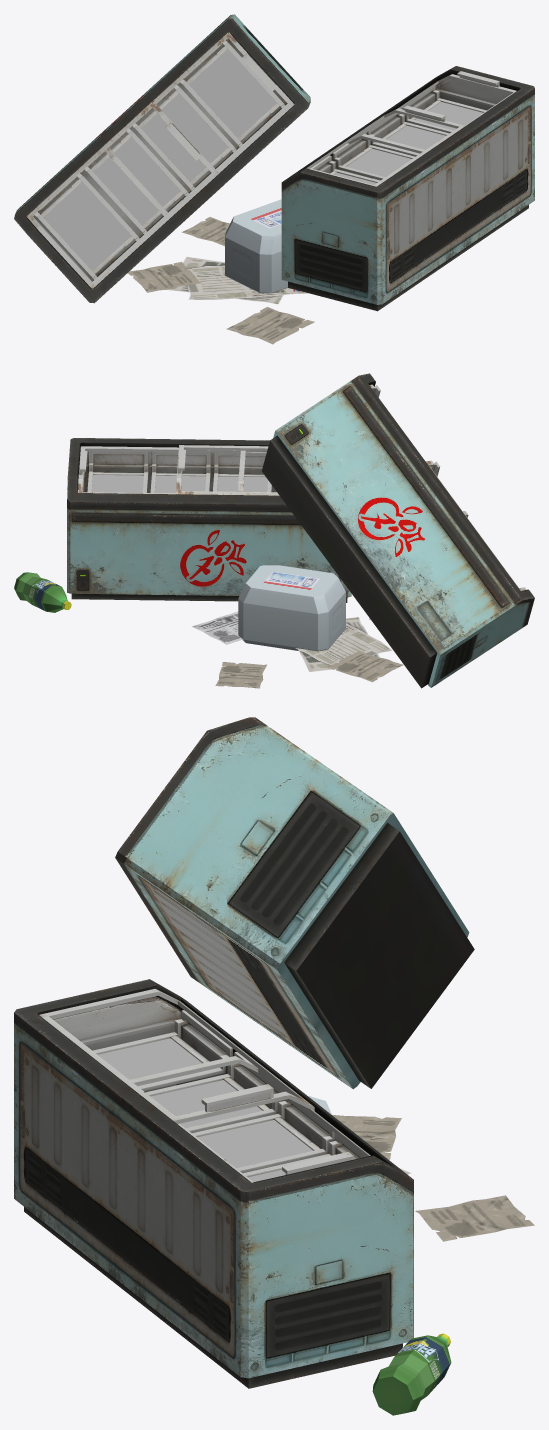
The model's file is P_NEWMaket01_after11.obj.
3 renders of one model, top to bottom at view 1: azimuth 30°, elevation 25°; view 2: azimuth 150°, elevation 25°; view 3: azimuth 270°, elevation 25°, orthographic. The views are drawn at different scales.
Size of the model in its own units: 3.94 by 2.06 by 2.12.
12 materials, 12 textured.
